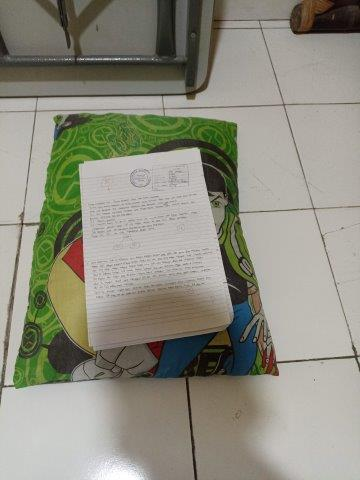kertas: (78, 147, 234, 351)
